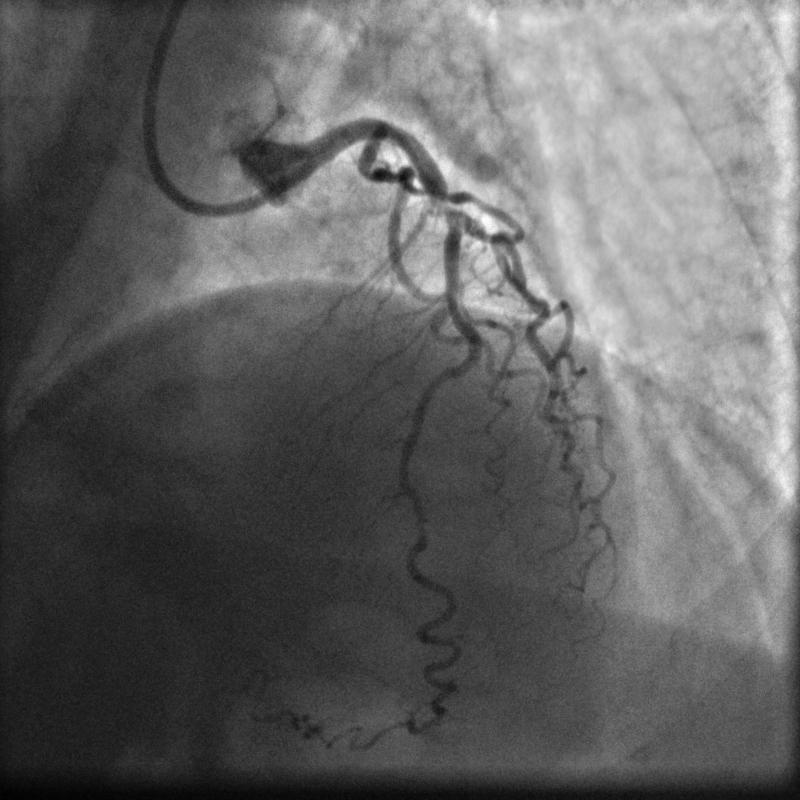Stenosis: (427, 193, 465, 219)
